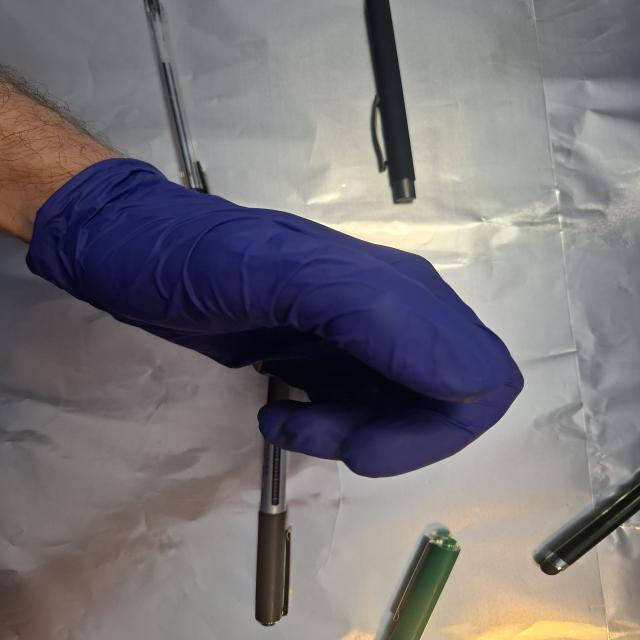glove_on: (28, 154, 530, 483)
